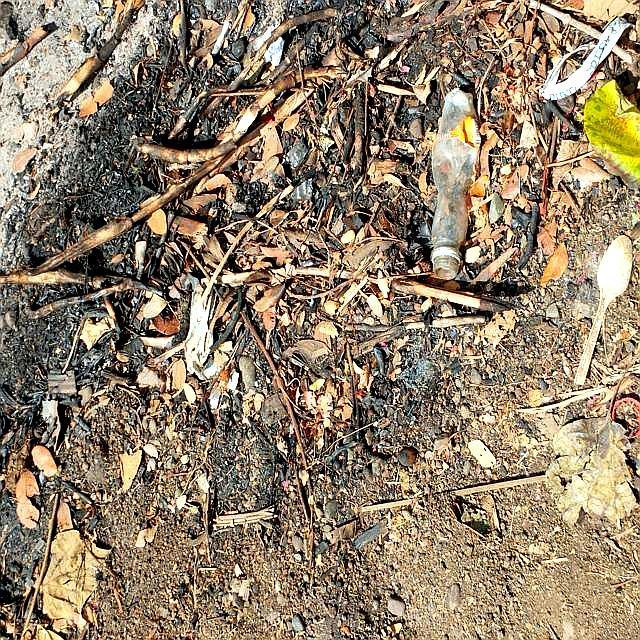Non-biodegradable: (431, 89, 483, 282)
